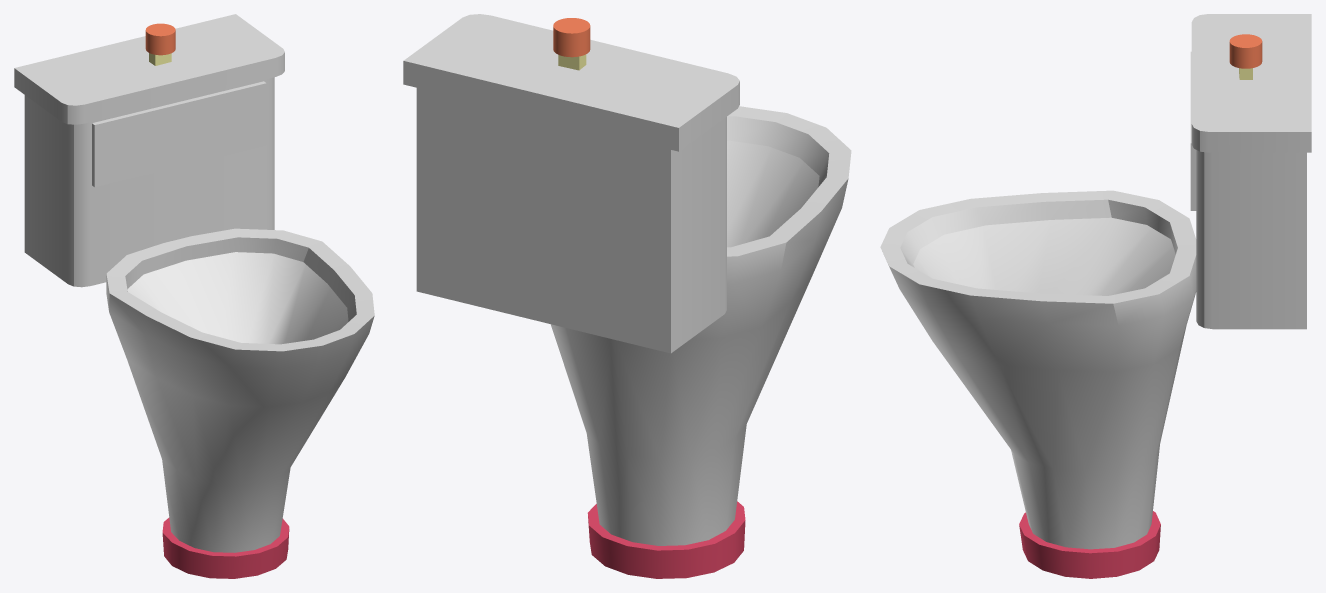
File: 2 toilet.fbx
3 renders of one model, left to right at view 1: azimuth 30°, elevation 25°; view 2: azimuth 150°, elevation 25°; view 3: azimuth 270°, elevation 25°, orthographic. The views are drawn at different scales.
Visible parts, largest first — view 1: 2 toilet; view 2: 2 toilet; view 3: 2 toilet.
Boxes of the visible parts, left/top/right/bottom form: 2 toilet: left=14, top=14, right=374, bottom=578; 2 toilet: left=403, top=14, right=851, bottom=578; 2 toilet: left=880, top=14, right=1311, bottom=578.
Size of the model in its own units: 34.39 by 69.63 by 53.16.
